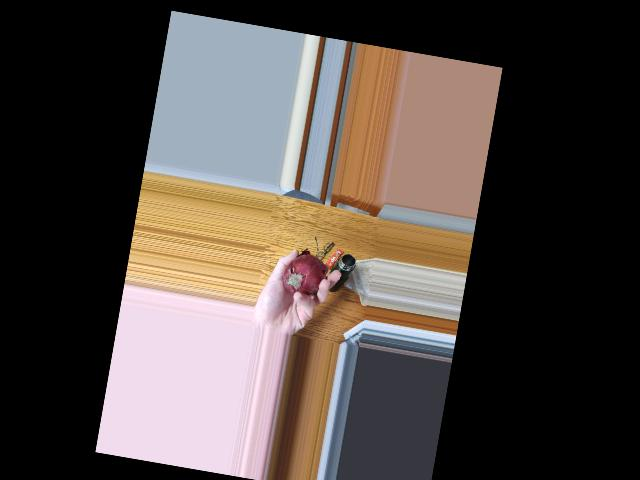onion: (282, 251, 327, 294)
